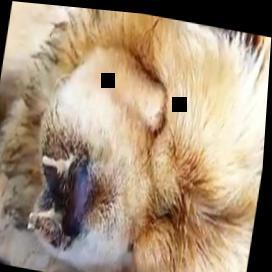nasal_discharge: (27, 145, 97, 248)
